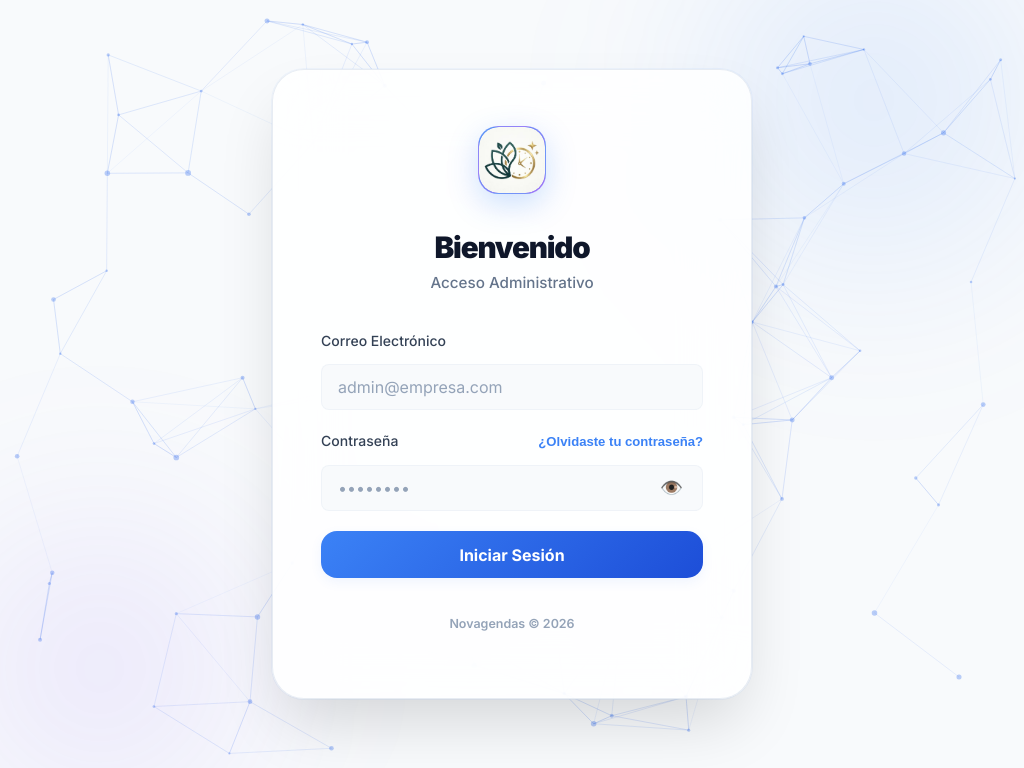
Test: Login Component › toggles password visibility
The width and height of the screenshot is (1024, 768).
Click the button "👁️" at (672, 488), box [656, 473, 687, 503]
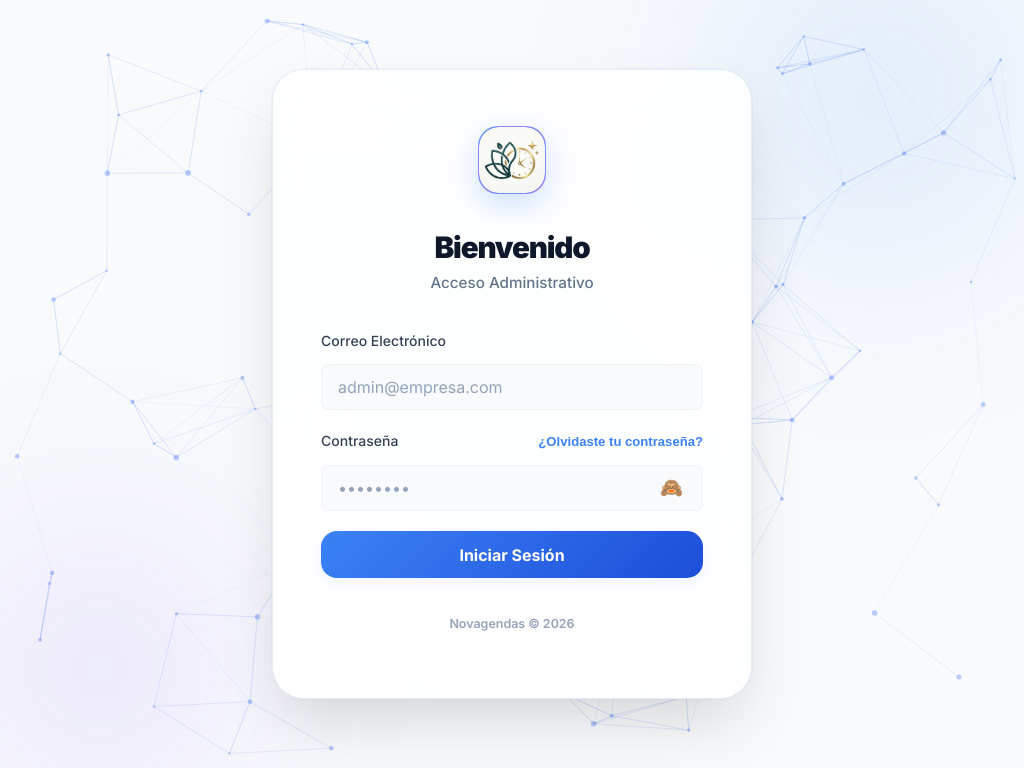
Check: the button "🙈" is shown, box [656, 473, 687, 503]
